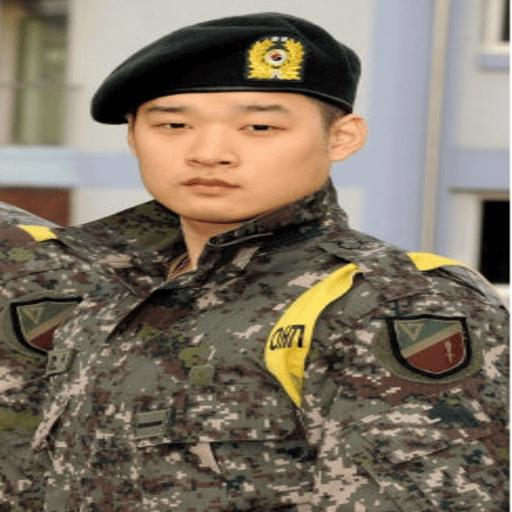korea army: (0, 11, 509, 511)
